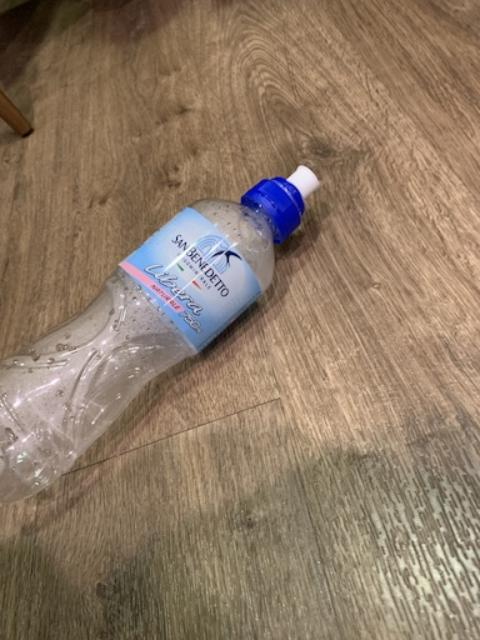plastic: (0, 165, 316, 500)
